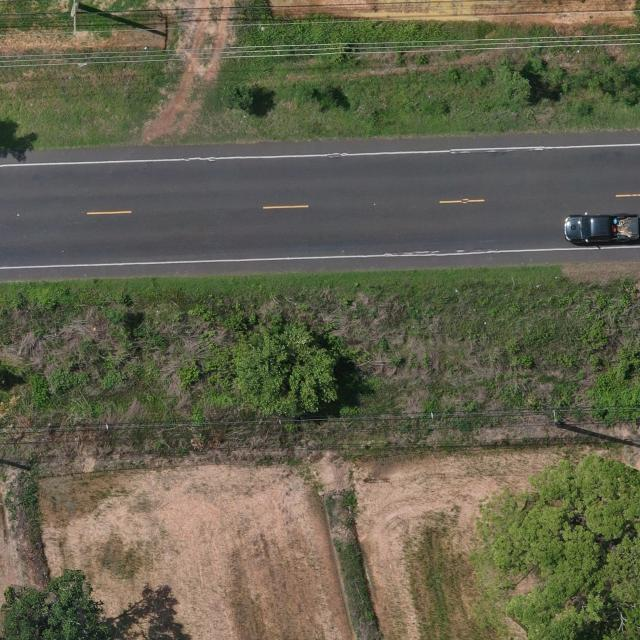Tree: (493, 452, 640, 640), (235, 322, 339, 418), (0, 567, 113, 640), (221, 81, 254, 111)
